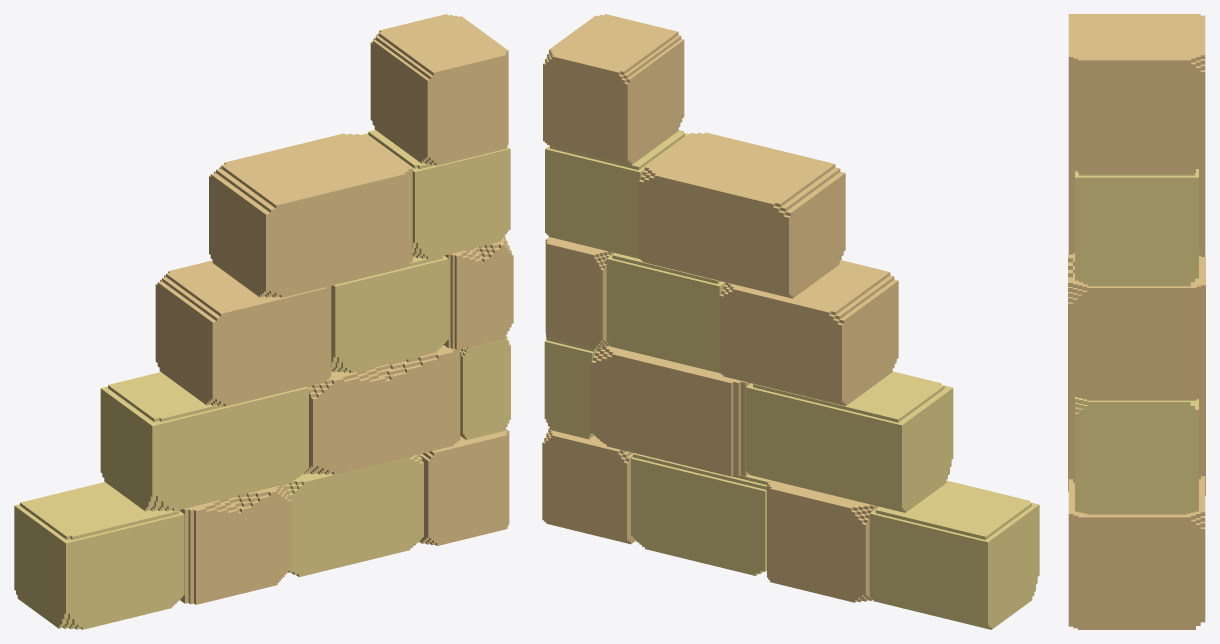
File: BreakWallV1.fbx
The picture shows the model from 3 angles, left to right: view 1: azimuth 30°, elevation 25°; view 2: azimuth 150°, elevation 25°; view 3: azimuth 270°, elevation 25°; orthographic projection. The views are drawn at different scales.
Visible parts, largest first — view 1: Brick.068, Brick.061, Brick.057, Brick.064, Brick.076, Brick.062, Brick.059, Brick.065, Brick.058, Brick.069, Brick.056, Brick.066 (+1 smaller); view 2: Brick.068, Brick.061, Brick.057, Brick.064, Brick.076, Brick.062, Brick.059, Brick.065, Brick.058, Brick.069, Brick.056, Brick.066 (+1 smaller); view 3: Brick.076, Brick.056, Brick.066, Brick.063, Brick.069, Brick.062, Brick.068, Brick.064.
Part boxes in pixels (box(x1,y1,x2,y2)): Brick.068: box(209, 133, 412, 297); Brick.061: box(100, 372, 308, 511); Brick.057: box(14, 482, 184, 629); Brick.064: box(155, 260, 331, 406); Brick.076: box(370, 14, 508, 165); Brick.062: box(304, 345, 460, 474); Brick.059: box(284, 454, 423, 577); Brick.065: box(331, 255, 448, 373); Brick.058: box(179, 484, 291, 604); Brick.069: box(365, 130, 510, 259); Brick.056: box(419, 429, 509, 545); Brick.066: box(443, 236, 513, 349); Brick.068: box(638, 132, 845, 298); Brick.061: box(746, 371, 953, 512); Brick.057: box(869, 480, 1039, 629); Brick.064: box(719, 260, 898, 406); Brick.076: box(543, 14, 684, 165); Brick.062: box(591, 346, 750, 476); Brick.059: box(631, 453, 771, 575); Brick.065: box(606, 253, 725, 373); Brick.058: box(767, 480, 878, 602); Brick.069: box(545, 130, 689, 258); Brick.056: box(542, 428, 635, 544); Brick.066: box(545, 237, 613, 349); Brick.076: box(1068, 14, 1205, 172); Brick.056: box(1068, 476, 1205, 629); Brick.066: box(1068, 253, 1205, 400); Brick.063: box(1075, 397, 1198, 514); Brick.069: box(1075, 169, 1198, 286); Brick.062: box(1068, 395, 1205, 482); Brick.068: box(1068, 165, 1205, 226); Brick.064: box(1068, 222, 1205, 256).
Size of the model in its own units: 2 by 0.4464 by 2.04.
